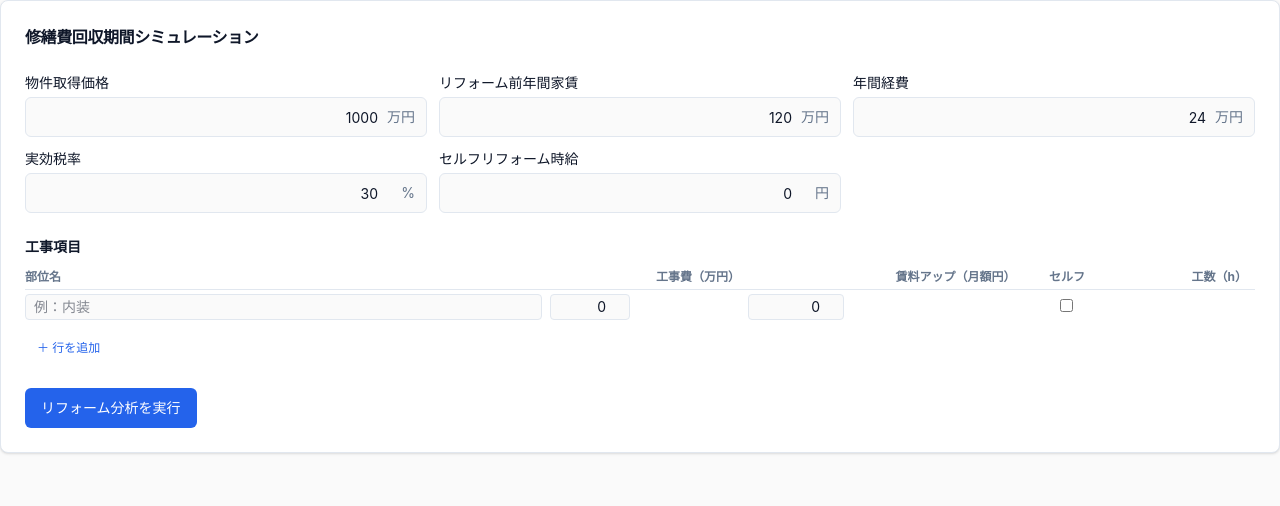
Test: RenovationPanel › 削除ボタンをクリックすると工事項目が減る
The image size is (1280, 506).
Click the button with aria-label "工事項目を追加" at (69, 348), box [25,332,112,364]
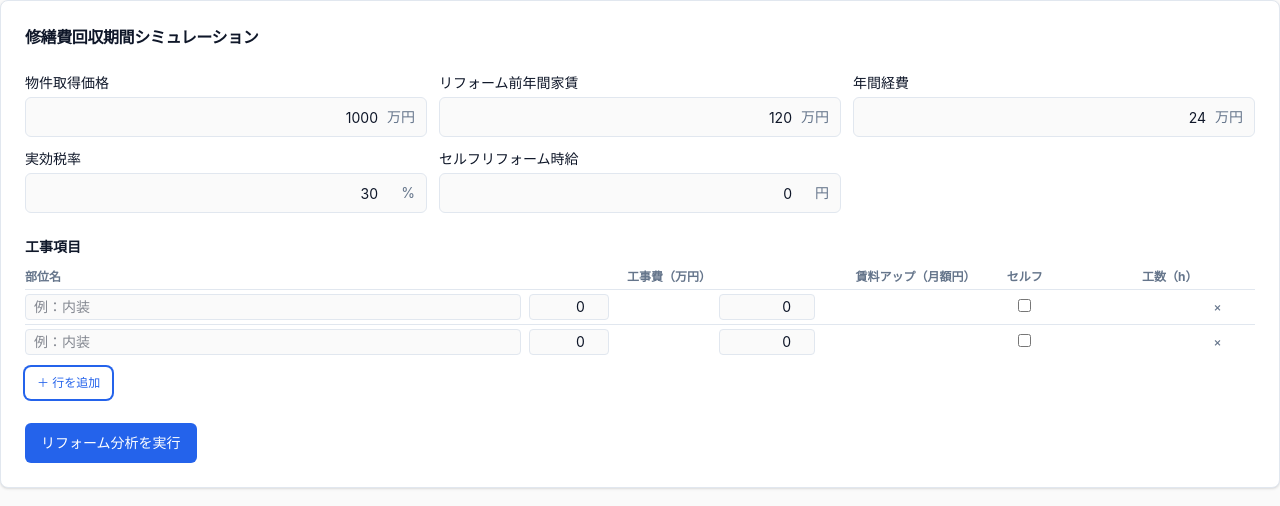
Expected: the number of fields with placeholder "例：内装" is 2, [25,294,521,320]; [25,329,521,355]
Click the 1st button "×" at (1217, 307), box [1205,295,1229,319]
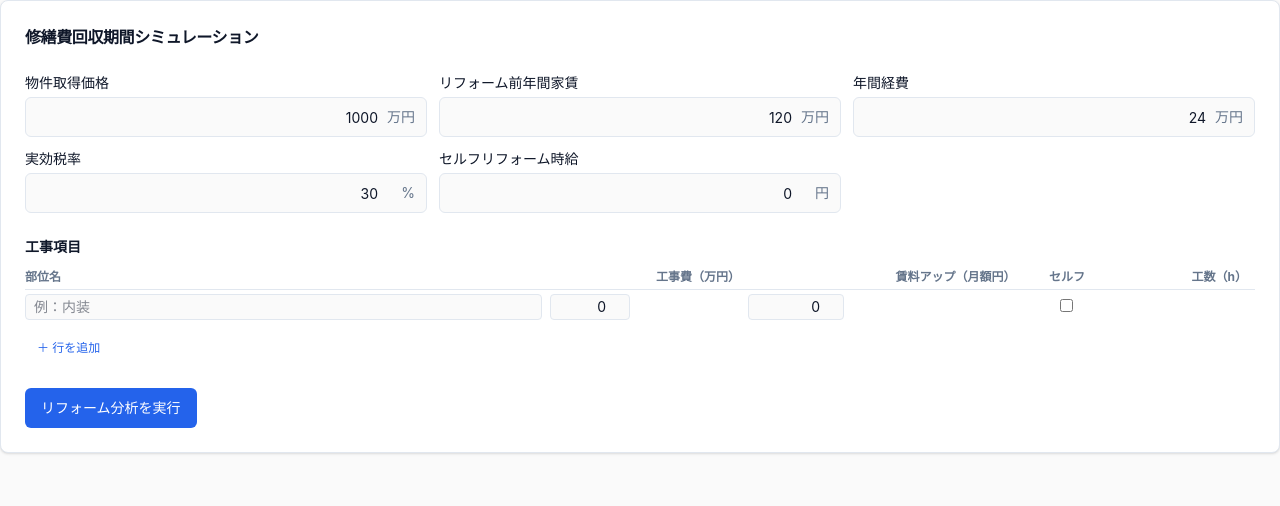
Expected: the number of fields with placeholder "例：内装" is 1, [25,294,542,320]
